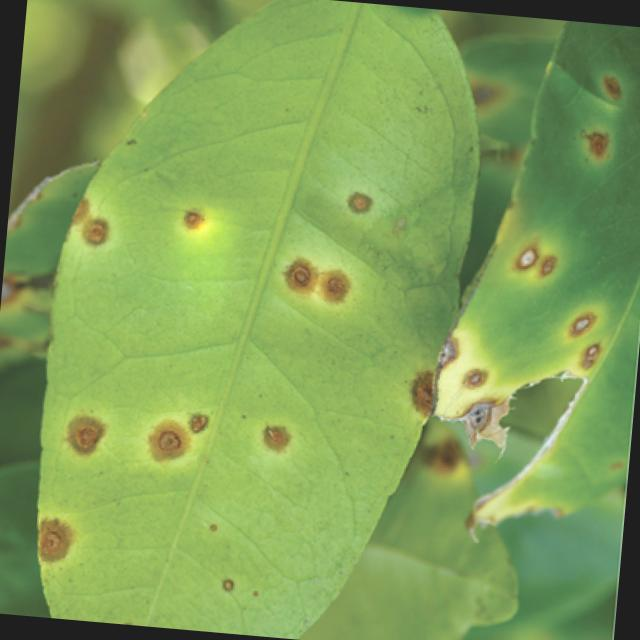leaf_spot: (39, 0, 475, 639), (435, 24, 640, 526)
